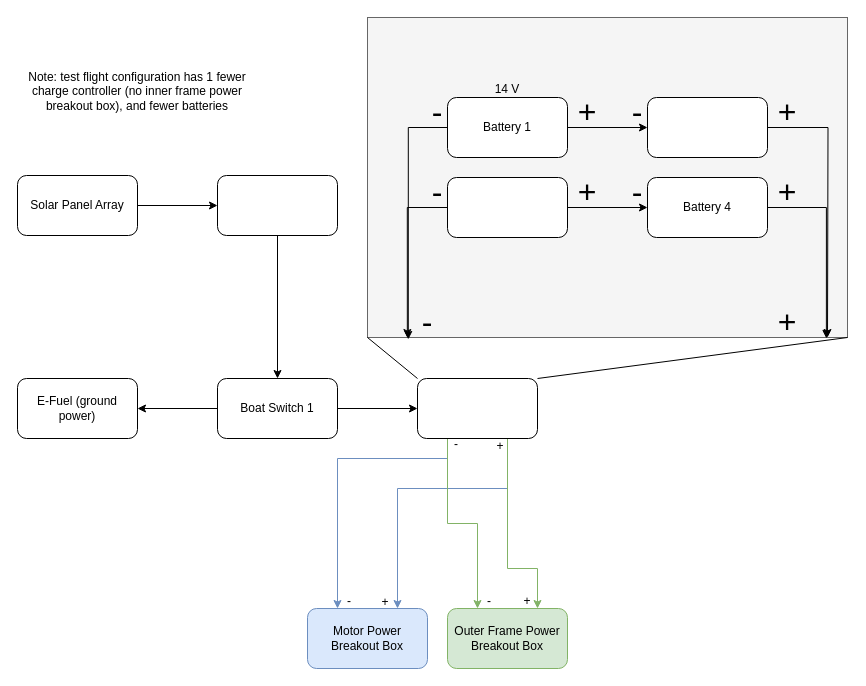
This 866x686 diagram has some shape labels left out. The shapes that lost their labels are listed below. From the top down, each one's box as (x1, y1, x2, y2) in pixels, then its label:
(646, 96, 768, 158): Battery 2
(216, 174, 338, 236): Charge Controller 1
(446, 176, 568, 238): Battery 3
(416, 378, 538, 438): Battery Array
